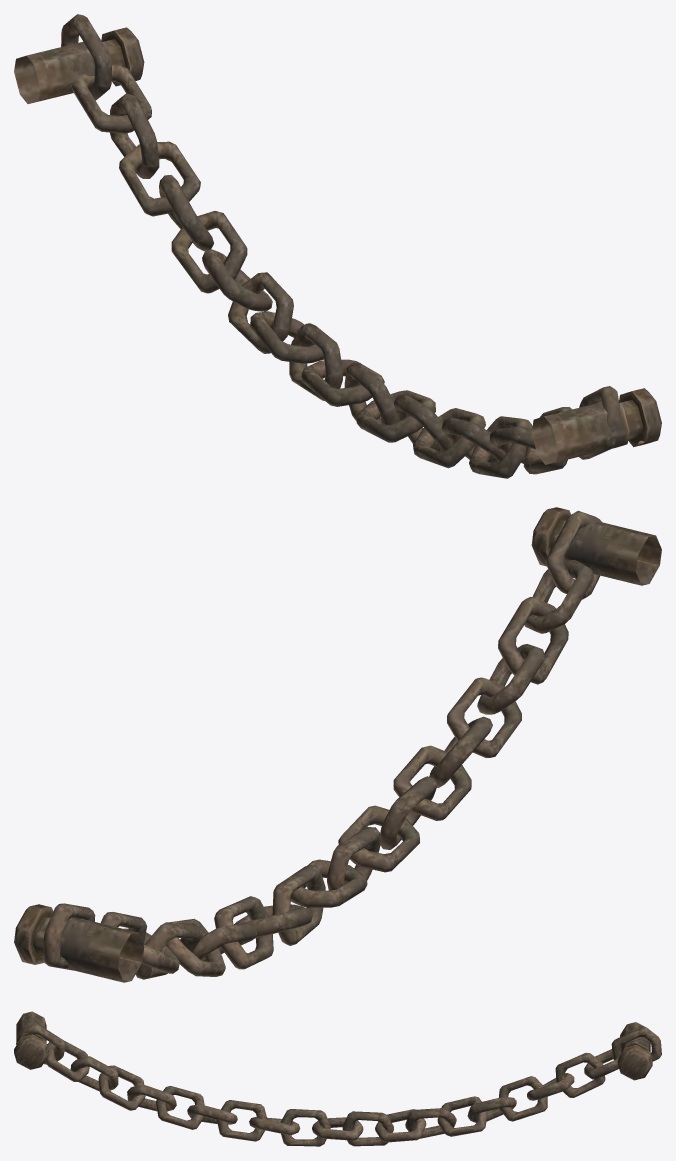
3 views of the same model, one above another, from view 1: azimuth 30°, elevation 25°; view 2: azimuth 150°, elevation 25°; view 3: azimuth 270°, elevation 25° (orthographic). The views are drawn at different scales.
Visible parts, largest first — view 1: SM_DR_Chain_Wall_03_LOD0; view 2: SM_DR_Chain_Wall_03_LOD0; view 3: SM_DR_Chain_Wall_03_LOD0.
Part boxes in pixels (box(x1,y1,x2,y2)): SM_DR_Chain_Wall_03_LOD0: box(14, 14, 661, 478); SM_DR_Chain_Wall_03_LOD0: box(14, 507, 661, 982); SM_DR_Chain_Wall_03_LOD0: box(14, 1011, 661, 1146).
Bounding box in the file's own units: 0.4072 × 0.7846 × 3.74.
Materials: 1 (1 with a texture image).
